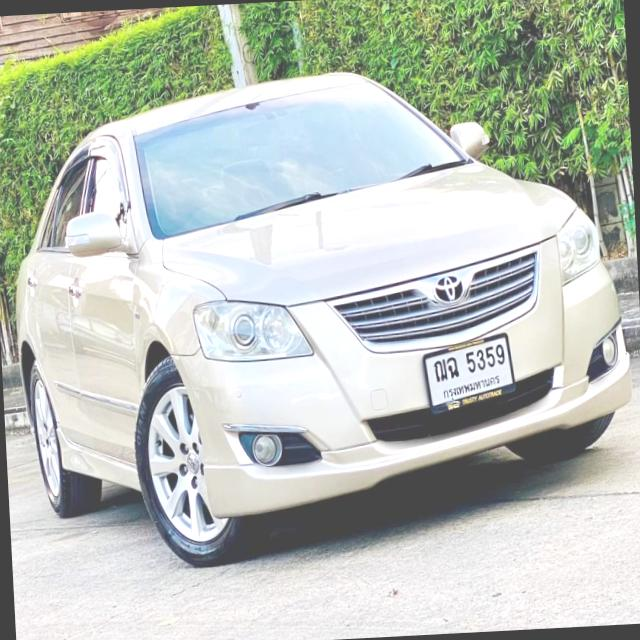license_plate: (422, 333, 517, 412)
